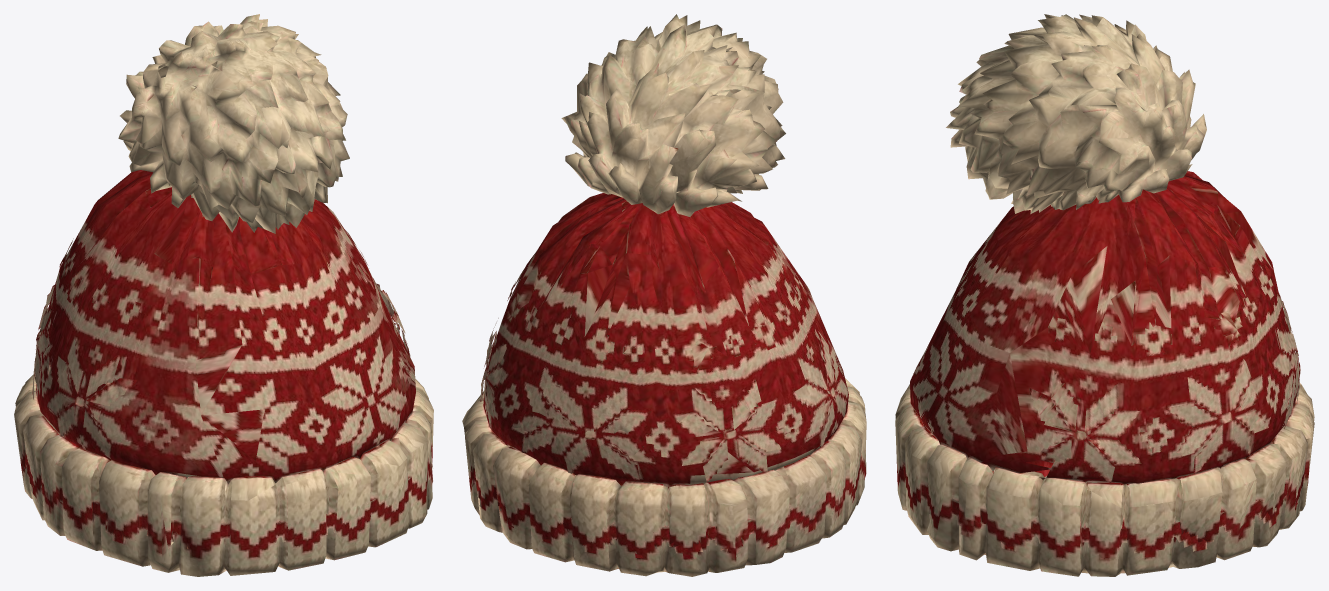
File: HatKnitted.fbx
The picture shows the model from 3 angles, left to right: view 1: azimuth 30°, elevation 25°; view 2: azimuth 150°, elevation 25°; view 3: azimuth 270°, elevation 25°; orthographic projection. The views are drawn at different scales.
Parts seen in each view (by area): view 1: Mesh_0; view 2: Mesh_0; view 3: Mesh_0.
Part boxes in pixels (box(x1,y1,x2,y2)): Mesh_0: box(14, 14, 433, 576); Mesh_0: box(462, 14, 866, 576); Mesh_0: box(895, 14, 1314, 576).
Size of the model in its own units: 74.11 by 94.97 by 75.2.
Materials: 1 (1 with a texture image).
